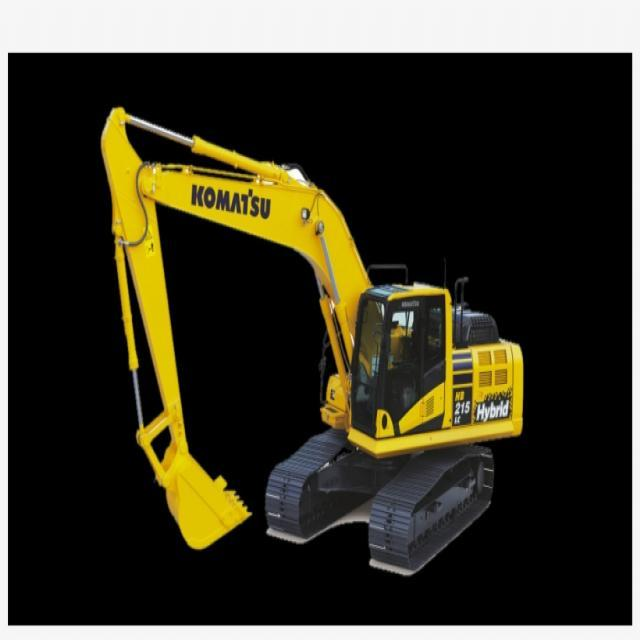C_E: (99, 107, 525, 573)
